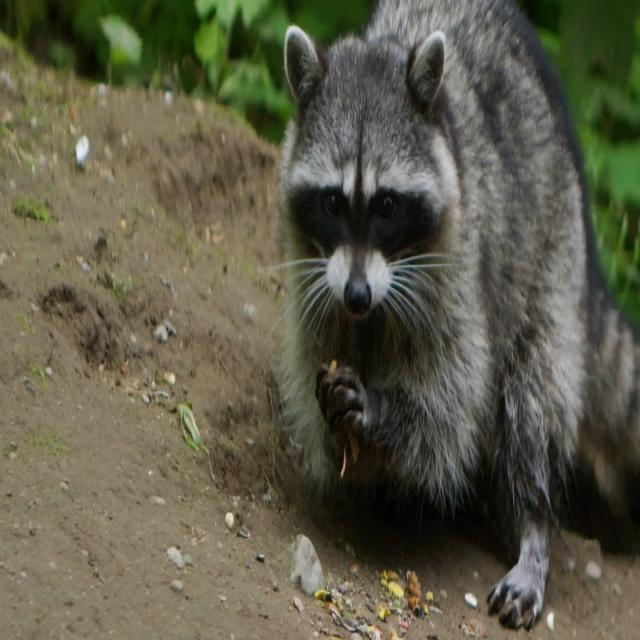Raccoon: (280, 1, 629, 603)
